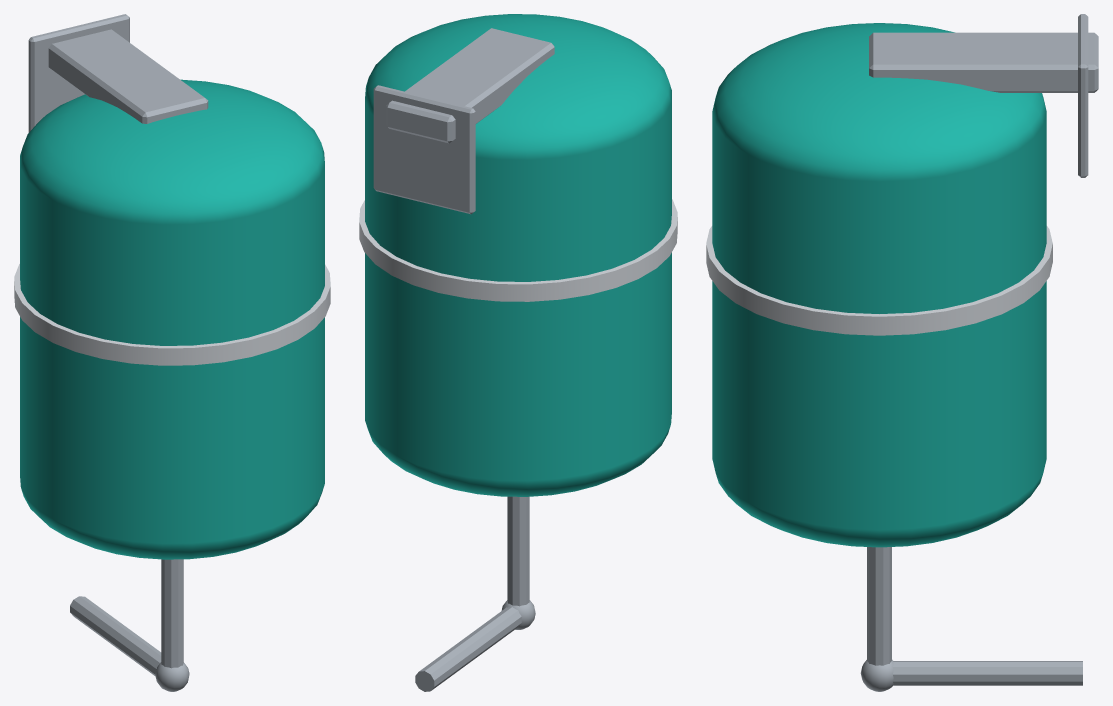
File: expansion-vessel.glb
The picture shows the model from 3 angles, left to right: view 1: azimuth 30°, elevation 25°; view 2: azimuth 150°, elevation 25°; view 3: azimuth 270°, elevation 25°; orthographic projection. The views are drawn at different scales.
Parts seen in each view (by area): view 1: expansion-vessel; view 2: expansion-vessel; view 3: expansion-vessel.
Part boxes in pixels (x1,y1,x2,y2): expansion-vessel: [14, 14, 330, 691]; expansion-vessel: [359, 14, 677, 691]; expansion-vessel: [706, 14, 1098, 691].
Size of the model in its own units: 0.332 by 0.688 by 0.376.
